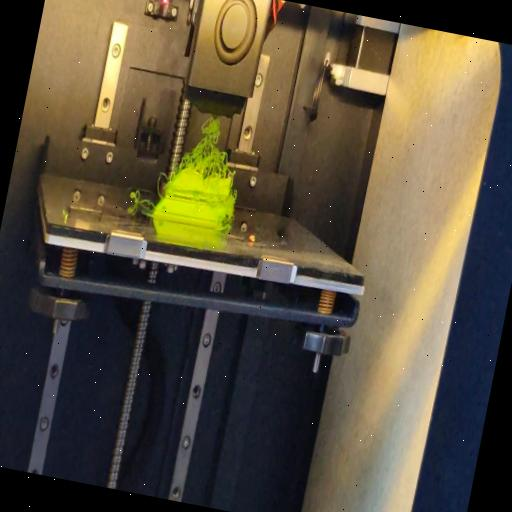spaghetti: (181, 112, 240, 182), (126, 190, 160, 216), (220, 188, 240, 230), (154, 167, 170, 201)
